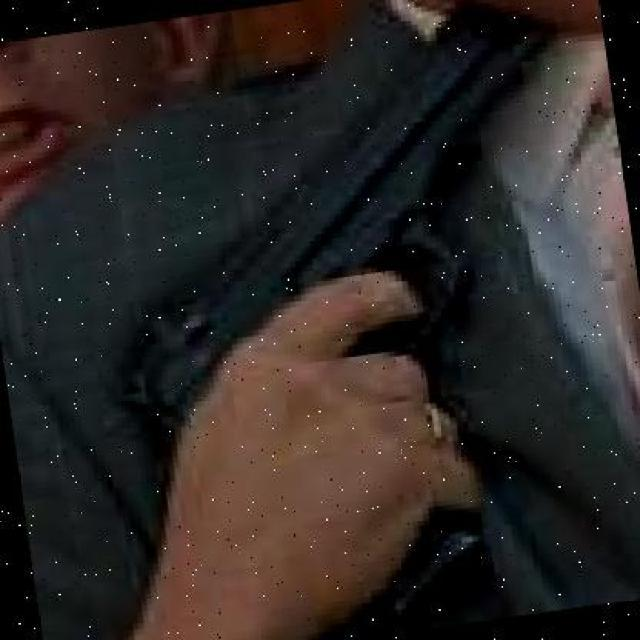rifle: (4, 0, 545, 497)
